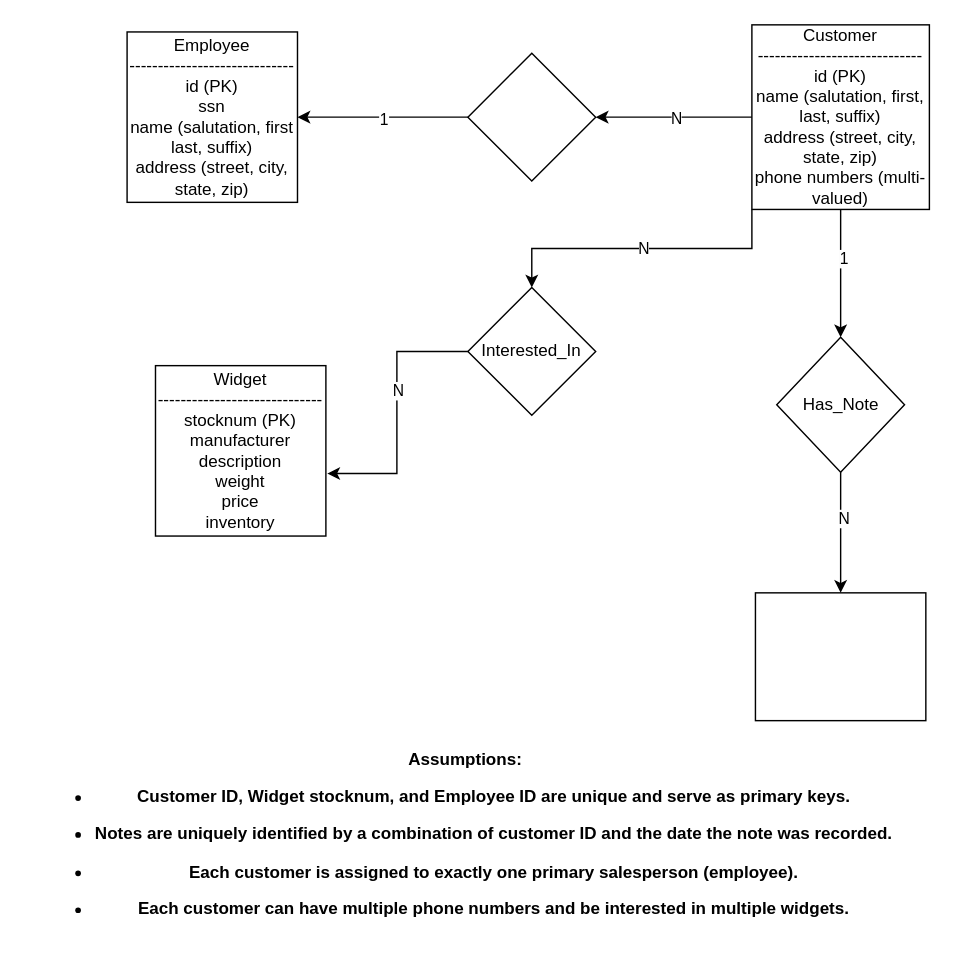
Image size: 954x973. Some labels were removed from this diagram. Each missing label, with the centre of its shape:
Assigned_To: [531,116]
Note ----------------------------- date (PK, with customer id) text: [840,656]
